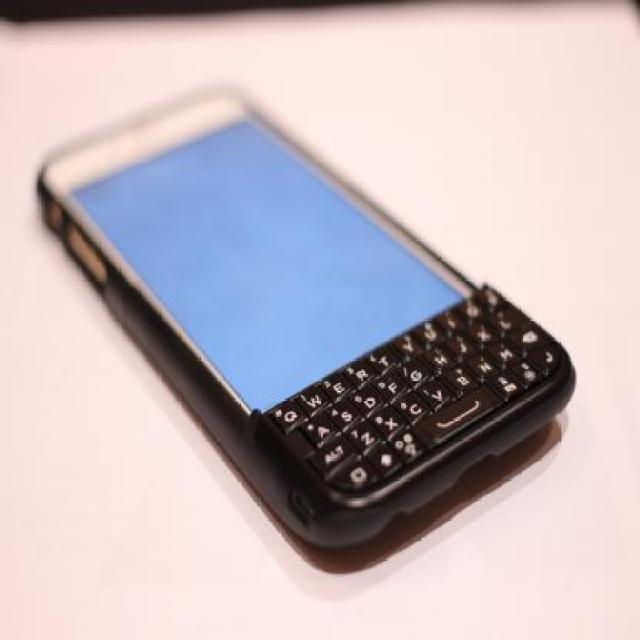phone: (36, 80, 579, 583)
